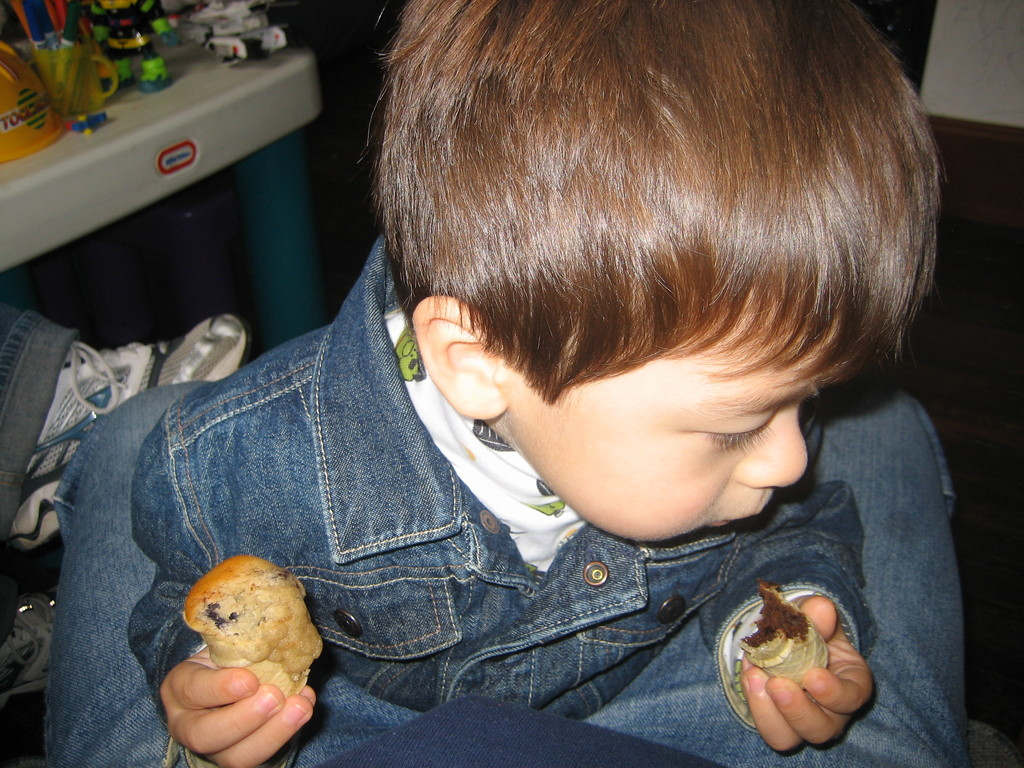Human_hand: (732, 596, 871, 750), (155, 646, 319, 767)
